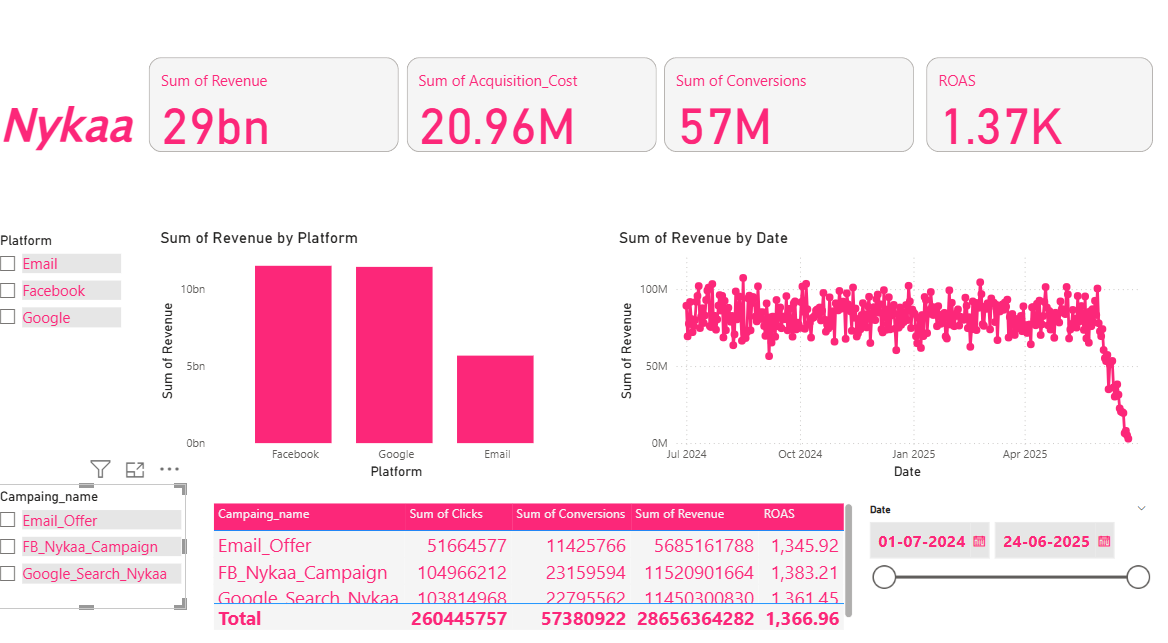

This screenshot's page, from the dashboard's own definition file:
{"tool":"powerbi","page":{"name":"Page 1","canvas":[1280,720],"ordinal":0},"visuals":[{"type":"clusteredColumnChart","fields":{"Category":["nykaa_campaign_data - nykaa_campaign_data csv.Platform"],"Y":["Sum(nykaa_campaign_data - nykaa_campaign_data csv.Revenue)"]},"box":[180,262.9,460,275.7],"z":2000},{"type":"lineChart","fields":{"Category":["nykaa_campaign_data - nykaa_campaign_data csv.Date"],"Y":["Sum(nykaa_campaign_data - nykaa_campaign_data csv.Revenue)"]},"box":[674.3,262.9,584.3,275.7],"z":3000},{"type":"tableEx","fields":{"Values":["nykaa_campaign_data - nykaa_campaign_data csv.Campaing_name","Sum(nykaa_campaign_data - nykaa_campaign_data csv.Clicks)","Sum(nykaa_campaign_data - nykaa_campaign_data csv.Conversions)","Sum(nykaa_campaign_data - nykaa_campaign_data csv.Revenue)","nykaa_campaign_data - nykaa_campaign_data csv.ROAS"]},"box":[237.1,554.3,698.6,145.7],"z":4000},{"type":"cardVisual","fields":{"Data":["Sum(nykaa_campaign_data - nykaa_campaign_data csv.Revenue)","Sum(nykaa_campaign_data - nykaa_campaign_data csv.Acquisition_Cost)","Sum(nykaa_campaign_data - nykaa_campaign_data csv.Conversions)"]},"box":[168.6,74.3,835.7,112.9],"z":5000},{"type":"cardVisual","fields":{"Data":["nykaa_campaign_data - nykaa_campaign_data csv.ROAS"]},"box":[1004.3,74.3,254.3,112.9],"z":5001},{"type":"slicer","fields":{"Values":["nykaa_campaign_data - nykaa_campaign_data csv.Platform"]},"box":[0,262.9,148.6,145.7],"z":5002},{"type":"slicer","fields":{"Values":["nykaa_campaign_data - nykaa_campaign_data csv.Campaing_name"]},"box":[0,538.6,212.9,134.3],"z":5003},{"type":"slicer","fields":{"Values":["nykaa_campaign_data - nykaa_campaign_data csv.Date"]},"box":[935.7,554.3,322.9,145.7],"z":5004}]}

Visuals, with their boxes in screenshot pixels (x1, y1, x2, y2), scaled from the page's 1280x720 canvas onto the 1168x643 screenshot:
clusteredColumnChart - nykaa_campaign_data - nykaa_campaign_data csv.Platform x Sum(nykaa_campaign_data - nykaa_campaign_data csv.Revenue): [left=164, top=235, right=584, bottom=481]
lineChart - nykaa_campaign_data - nykaa_campaign_data csv.Date x Sum(nykaa_campaign_data - nykaa_campaign_data csv.Revenue): [left=615, top=235, right=1148, bottom=481]
tableEx - nykaa_campaign_data - nykaa_campaign_data csv.Campaing_name x Sum(nykaa_campaign_data - nykaa_campaign_data csv.Clicks): [left=216, top=495, right=854, bottom=625]
cardVisual - Sum(nykaa_campaign_data - nykaa_campaign_data csv.Revenue) x Sum(nykaa_campaign_data - nykaa_campaign_data csv.Acquisition_Cost): [left=154, top=66, right=916, bottom=167]
cardVisual - nykaa_campaign_data - nykaa_campaign_data csv.ROAS: [left=916, top=66, right=1148, bottom=167]
slicer - nykaa_campaign_data - nykaa_campaign_data csv.Platform: [left=0, top=235, right=136, bottom=365]
slicer - nykaa_campaign_data - nykaa_campaign_data csv.Campaing_name: [left=0, top=481, right=194, bottom=601]
slicer - nykaa_campaign_data - nykaa_campaign_data csv.Date: [left=854, top=495, right=1148, bottom=625]
